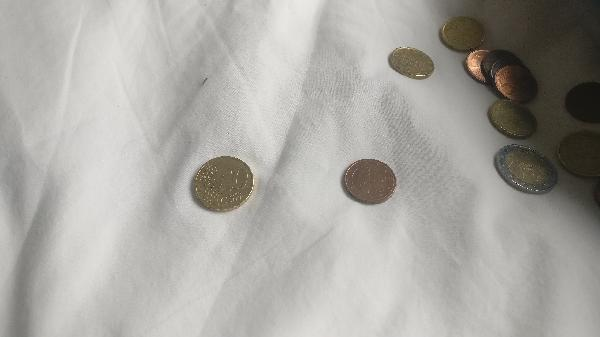Fifty Cent: (557, 126, 600, 178)
Five Cent: (341, 154, 400, 207), (496, 63, 543, 103), (484, 51, 522, 80), (464, 44, 493, 79)
Twenty Cent: (193, 156, 255, 210), (488, 100, 538, 140), (435, 15, 487, 52), (390, 45, 435, 84)
Two Euro: (492, 142, 560, 199)
